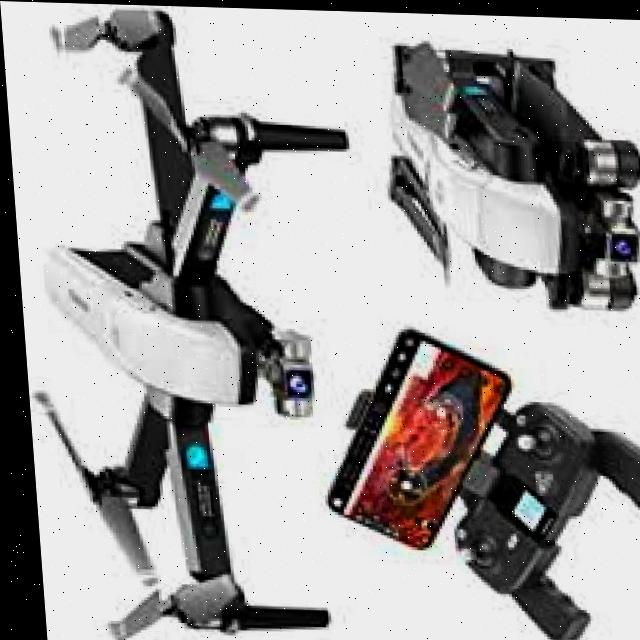drone: (0, 0, 385, 640)
